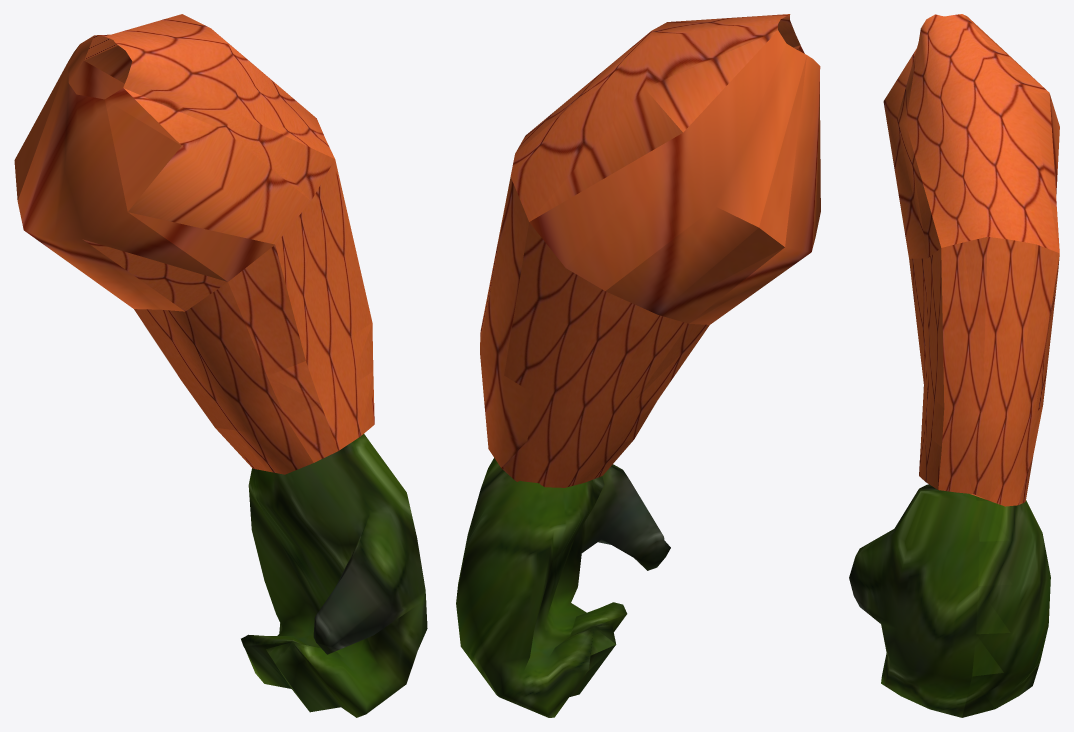
The model's file is Brazoizq.obj.
3 views of the same model, side by side, from view 1: azimuth 30°, elevation 25°; view 2: azimuth 150°, elevation 25°; view 3: azimuth 270°, elevation 25° (orthographic). The views are drawn at different scales.
Visible parts, largest first — view 1: brazoizq; view 2: brazoizq; view 3: brazoizq.
Part boxes in pixels (box(x1,y1,x2,y2)): brazoizq: box(14, 14, 427, 717); brazoizq: box(456, 14, 820, 717); brazoizq: box(849, 14, 1059, 717).
Size of the model in its own units: 1.33 by 2.56 by 0.8161.
Materials: 2 (2 with a texture image).
